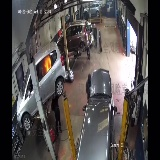fire: (43, 53, 54, 74)
